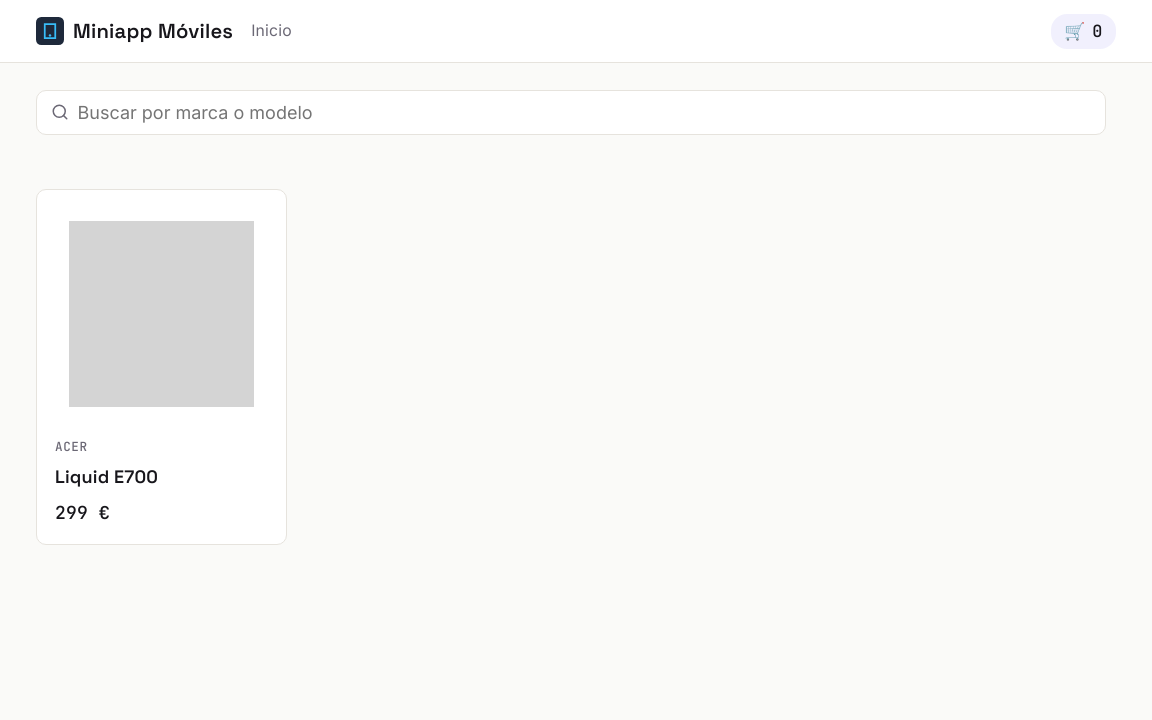
Test: App routing shell › navigates from / to /product/:id and mounts the ProductDetailPage
The width and height of the screenshot is (1152, 720).
Step 1. Click the link "Acer Liquid E700 299 €" → click(161, 367), box left=36, top=189, right=287, bottom=545
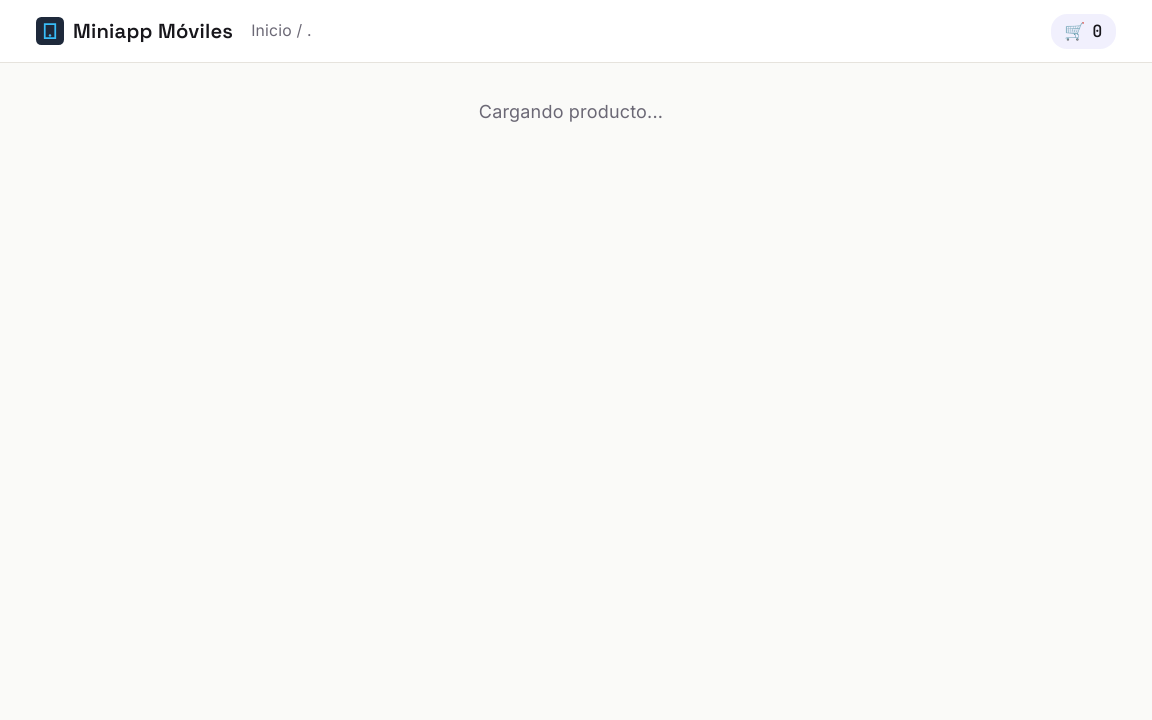
Expected: the text "Cargando producto..." is shown, left=479, top=101, right=663, bottom=122
